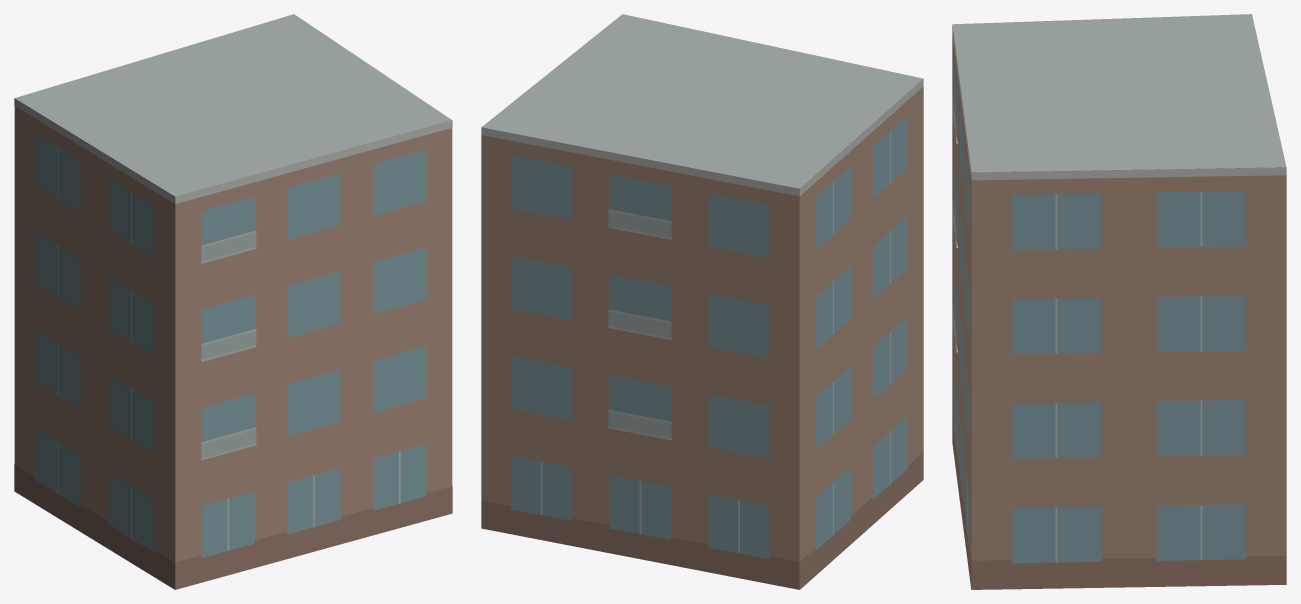
File: survey-upis-32621240.glb
3 renders of one model, left to right at view 1: azimuth 30°, elevation 25°; view 2: azimuth 150°, elevation 25°; view 3: azimuth 270°, elevation 25°, orthographic. The views are drawn at different scales.
Parts seen in each view (by area): view 1: survey-upis-32621240.tmp; view 2: survey-upis-32621240.tmp; view 3: survey-upis-32621240.tmp.
Part boxes in pixels (left/top/right/bottom): survey-upis-32621240.tmp: left=14, top=14, right=452, bottom=589; survey-upis-32621240.tmp: left=481, top=14, right=923, bottom=589; survey-upis-32621240.tmp: left=952, top=14, right=1286, bottom=589.
Bounding box in the file's own units: 10.43 × 12.8 × 9.3.
